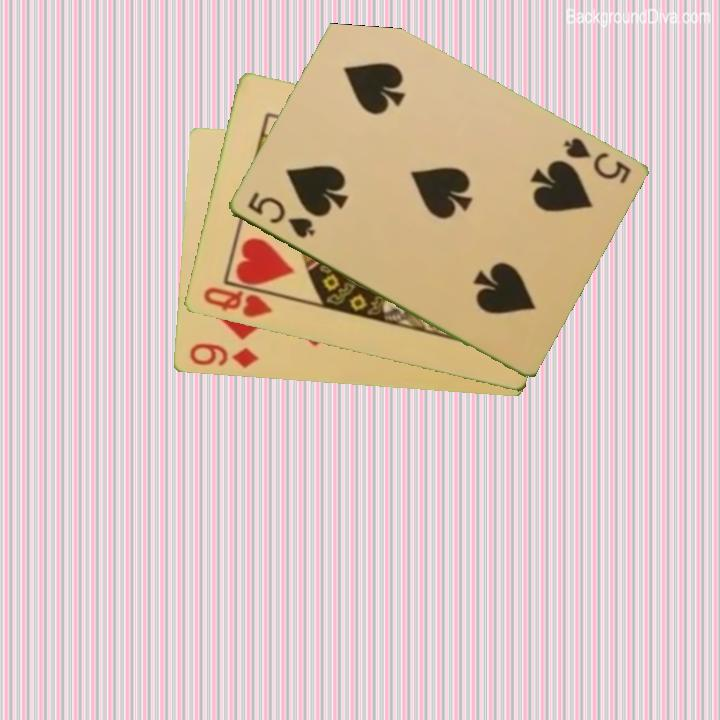5s: (243, 188, 318, 242), (559, 134, 634, 187)
9d: (185, 340, 262, 372)
Qh: (199, 283, 274, 321)
